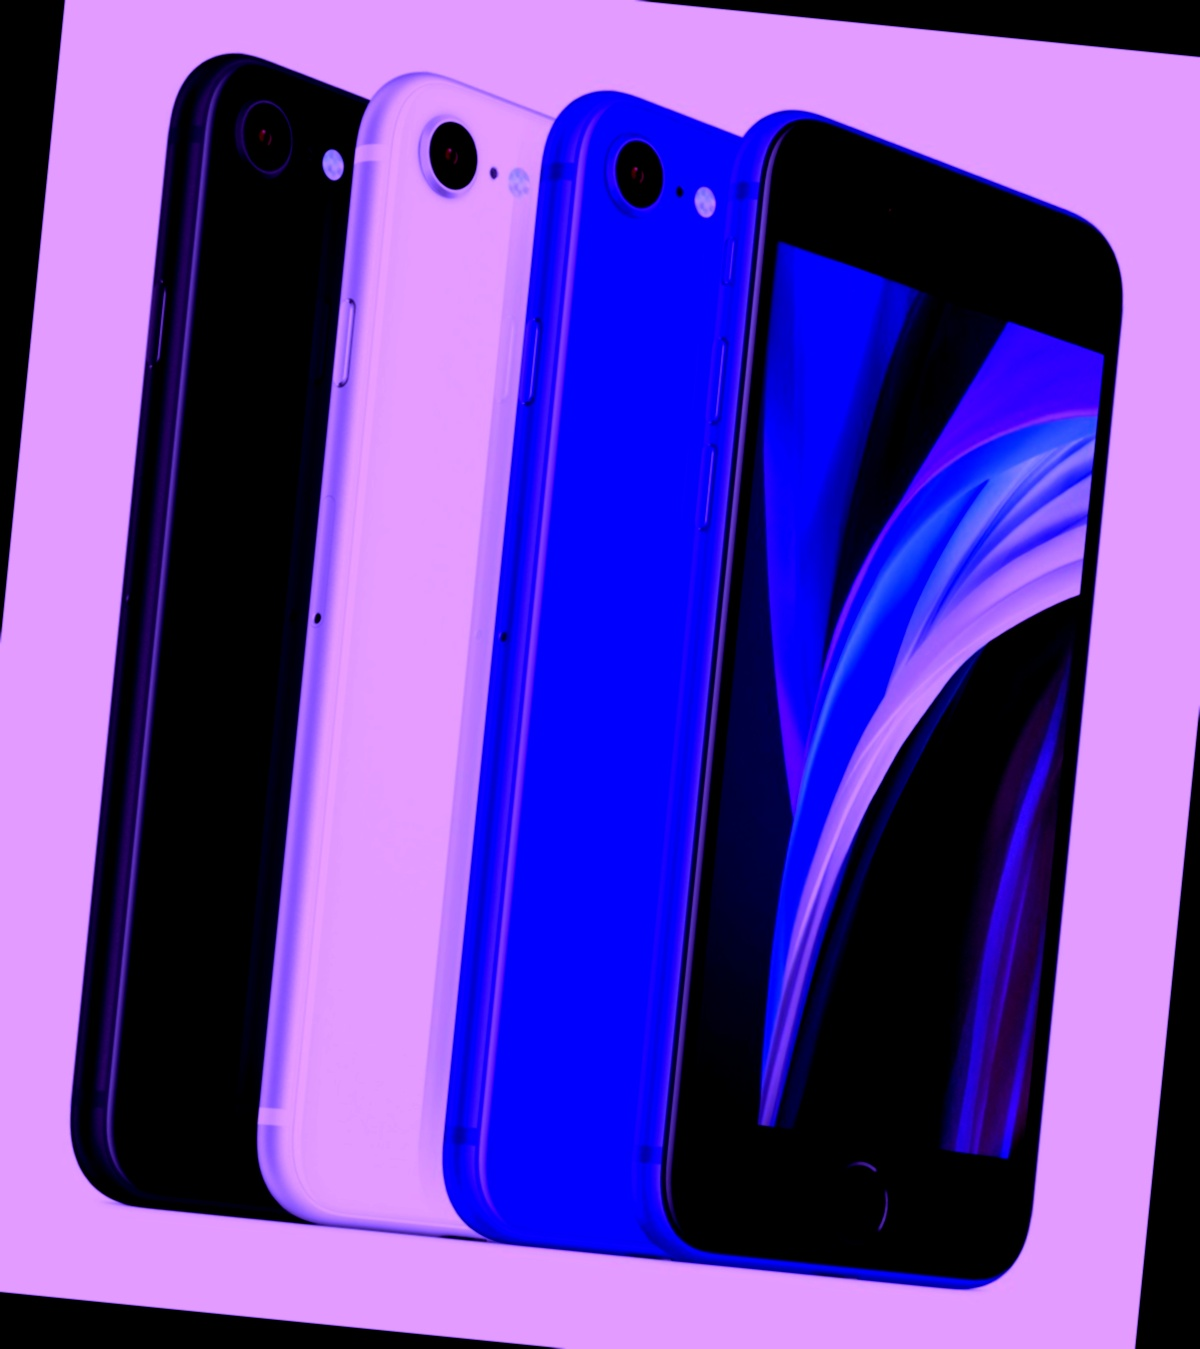iphone: (680, 93, 1086, 1252)
